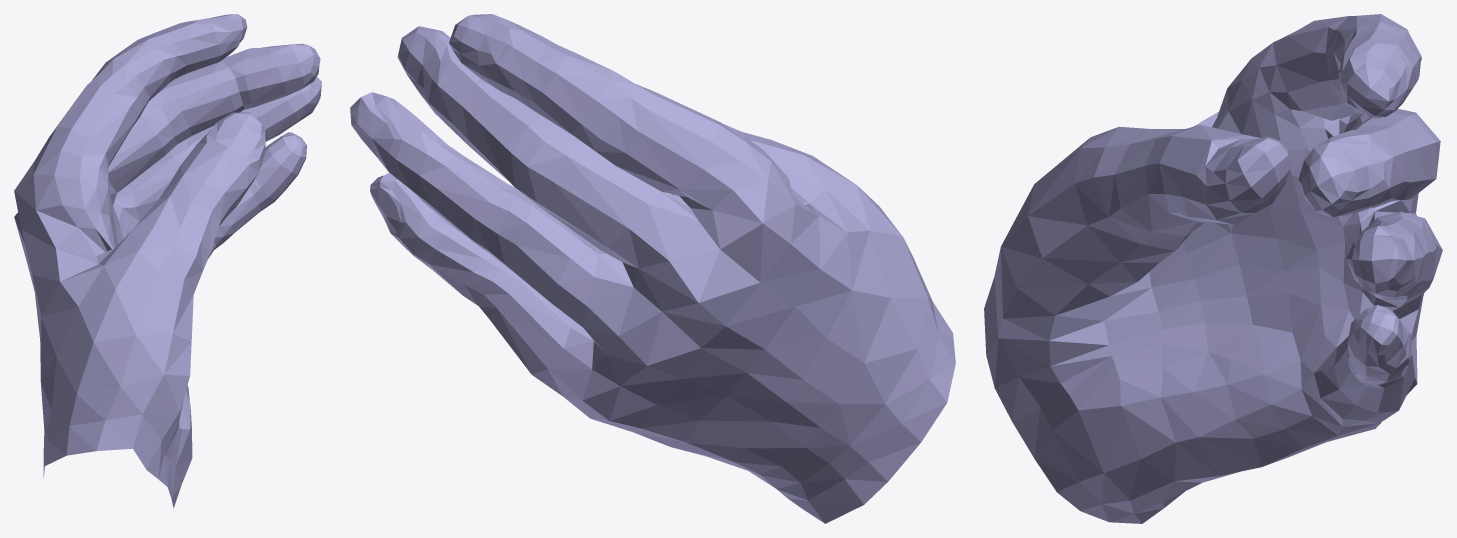
File: frame_0008_source_000008_hand.glb
3 renders of one model, left to right at view 1: azimuth 30°, elevation 25°; view 2: azimuth 150°, elevation 25°; view 3: azimuth 270°, elevation 25°, orthographic. The views are drawn at different scales.
Visible parts, largest first — view 1: world; view 2: world; view 3: world.
Part boxes in pixels (<box>): world: <box>14,14,321,508</box>; world: <box>350,14,955,523</box>; world: <box>984,14,1442,523</box>.
Bounding box in the file's own units: 0.1307 × 0.1356 × 0.0953.
